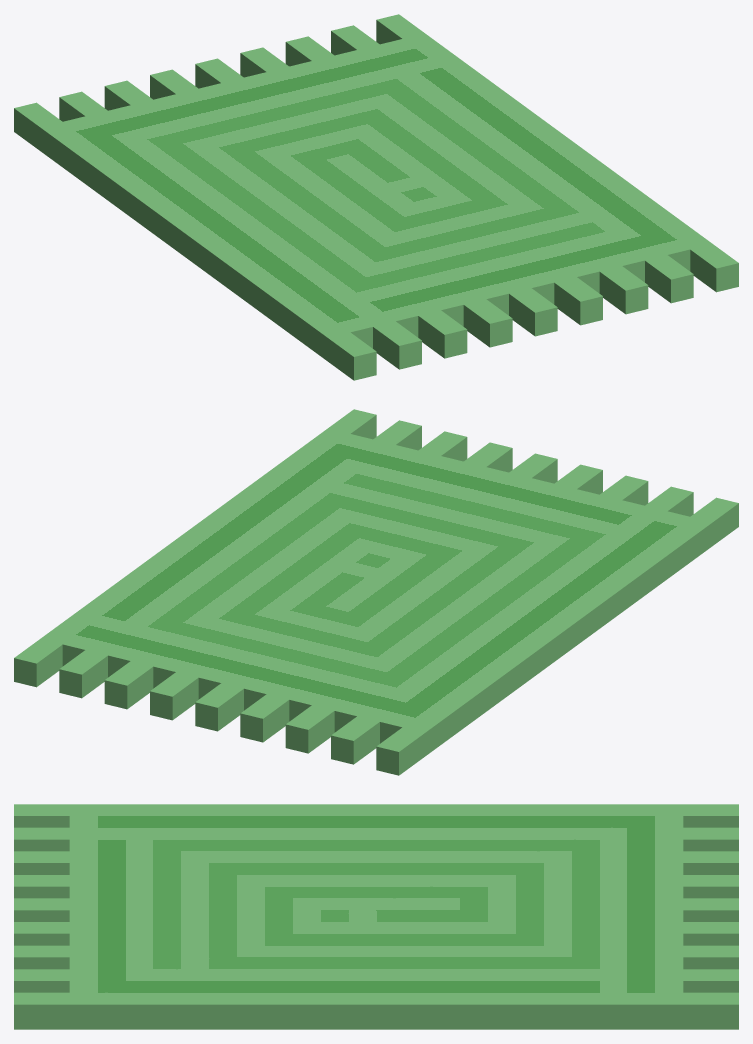
The model's file is carpetgreen.fbx.
3 views of the same model, one above another, from view 1: azimuth 30°, elevation 25°; view 2: azimuth 150°, elevation 25°; view 3: azimuth 270°, elevation 25° (orthographic). The views are drawn at different scales.
Parts seen in each view (by area): view 1: carpetgreen; view 2: carpetgreen; view 3: carpetgreen.
Part boxes in pixels (bbox=[...]): carpetgreen: bbox=[14, 14, 738, 380]; carpetgreen: bbox=[14, 409, 738, 775]; carpetgreen: bbox=[14, 804, 738, 1029].
Bounding box in the file's own units: 17 × 1 × 26.
